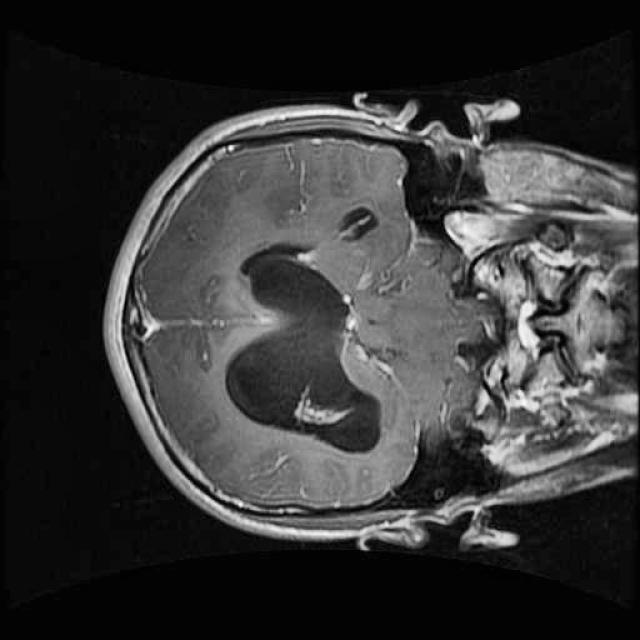Non-Tumor: (216, 232, 396, 469)
